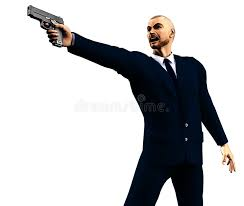gun: (25, 3, 71, 47)
